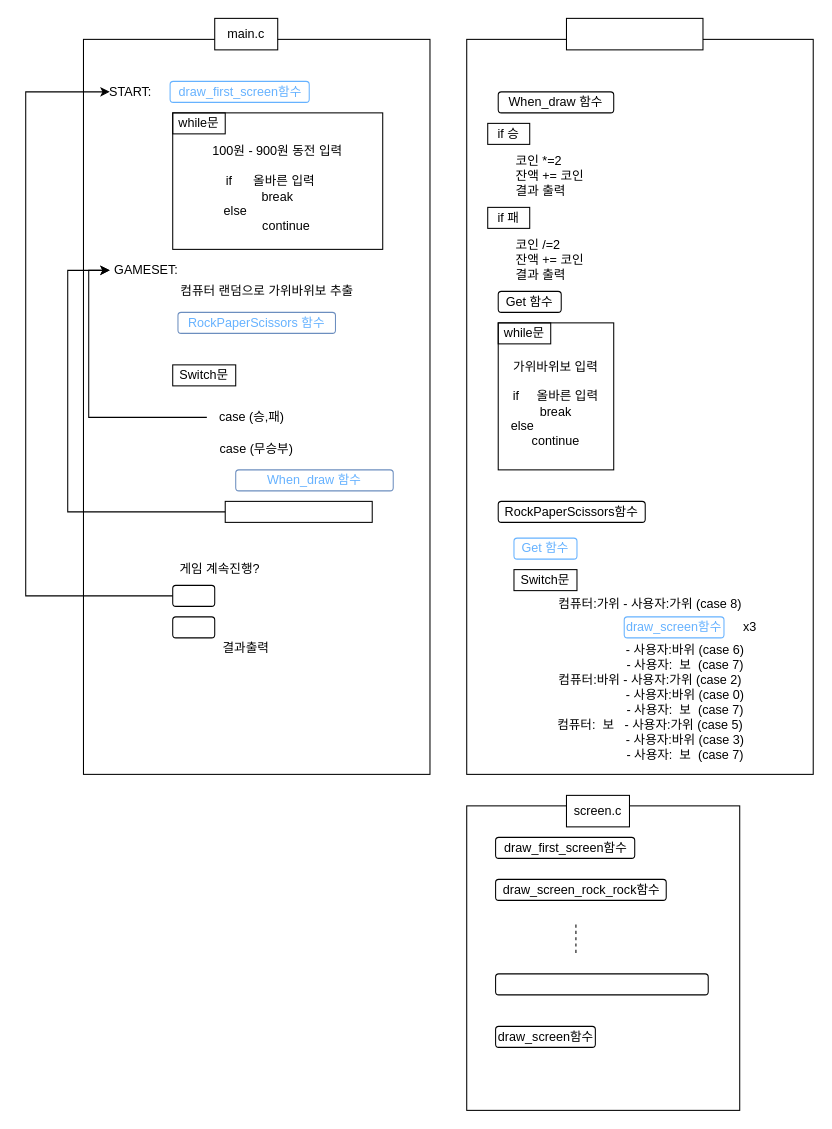
Some shapes in this 832 by 1129 pixel diagram are drawn without their labels. Here are the shapes that lost their labels. From the top down, the centre of each, then its label:
At (x=634, y=33): "RockPaperScissors.c".
At (x=298, y=511): "if 마지막 결과가 무승부".
At (x=193, y=595): "YES".
At (x=193, y=627): "NO".
At (x=601, y=984): "draw_screen_scissors_scissors함수".
